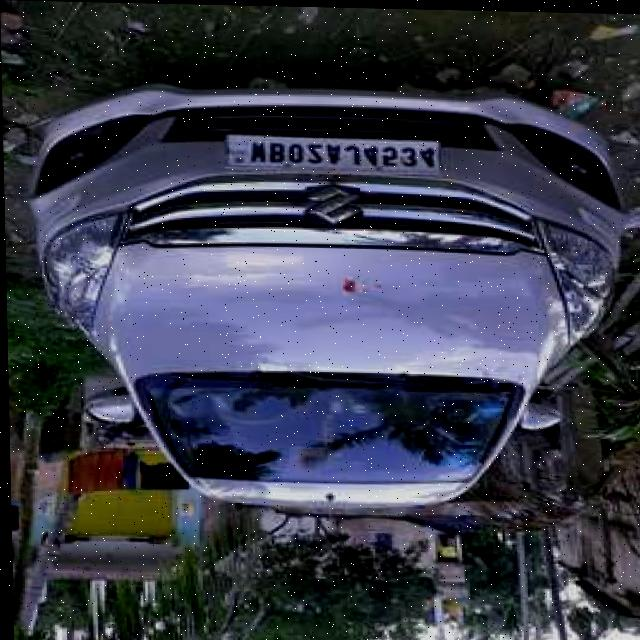plate: (223, 133, 442, 173)
